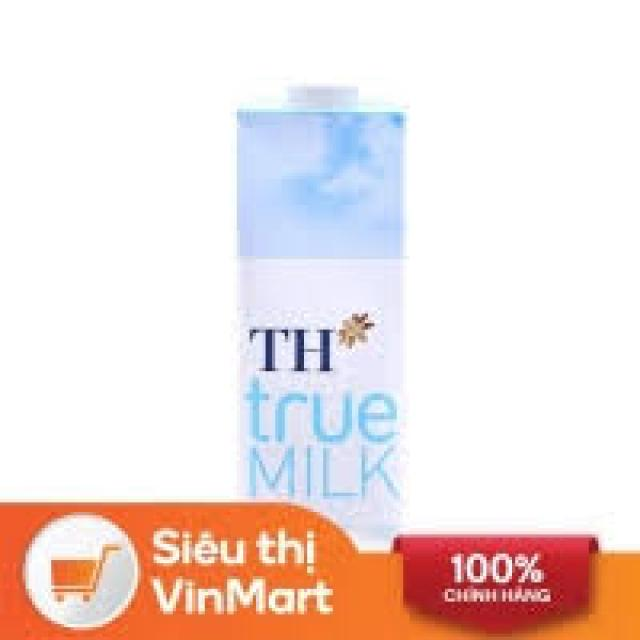non_white_jug: (445, 67, 640, 640)
